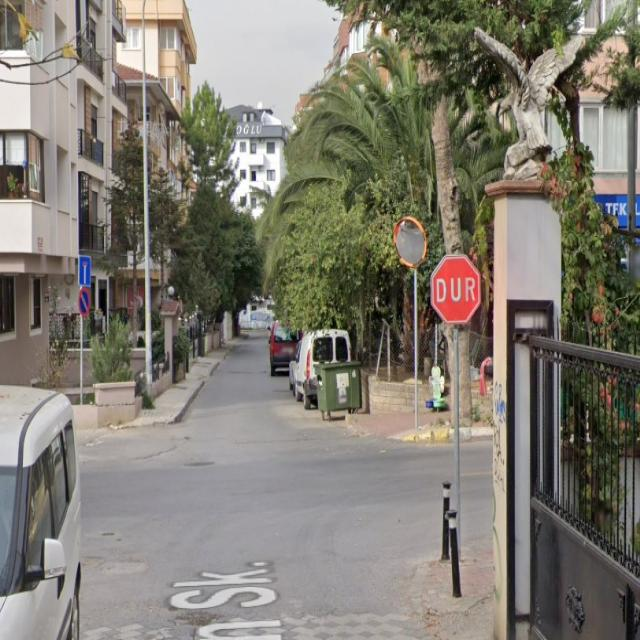dur: (430, 255, 482, 323)
parkyasak: (78, 288, 91, 317)
